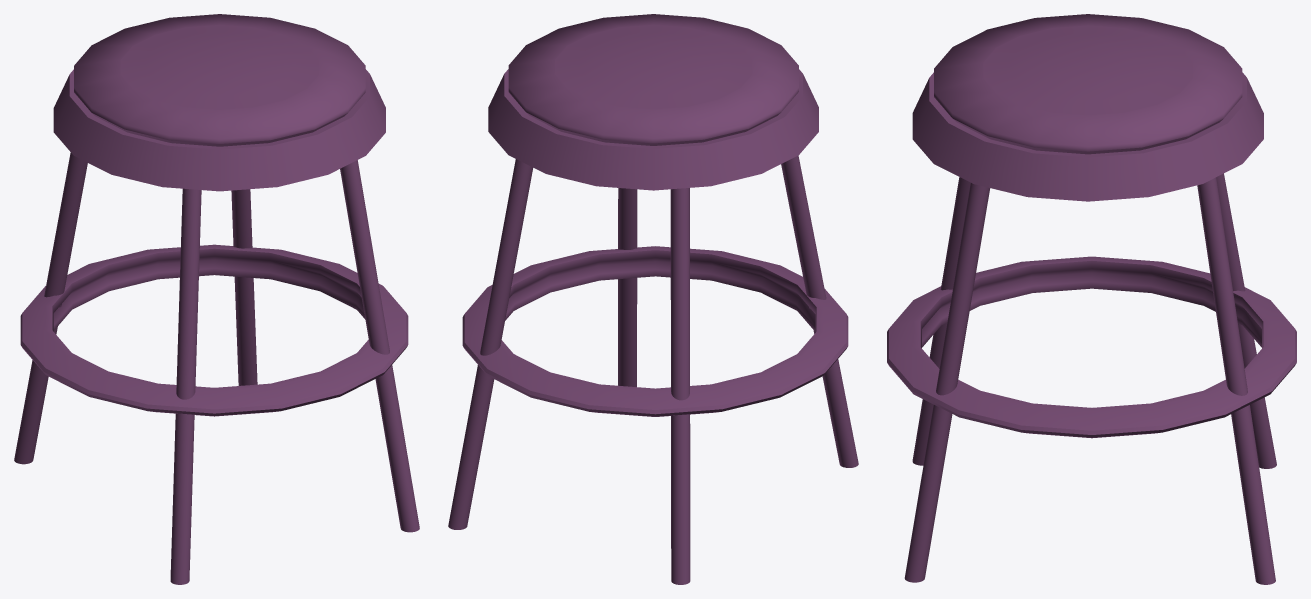
File: StoolTall.fbx
3 views of the same model, side by side, from view 1: azimuth 30°, elevation 25°; view 2: azimuth 150°, elevation 25°; view 3: azimuth 270°, elevation 25° (orthographic). The views are drawn at different scales.
Parts seen in each view (by area): view 1: Cylinder034; view 2: Cylinder034; view 3: Cylinder034.
Part boxes in pixels (<box>): Cylinder034: <box>14,14,419,584</box>; Cylinder034: <box>448,14,858,584</box>; Cylinder034: <box>887,14,1296,584</box>.
Bounding box in the file's own units: 23.29 × 22.94 × 28.43.
